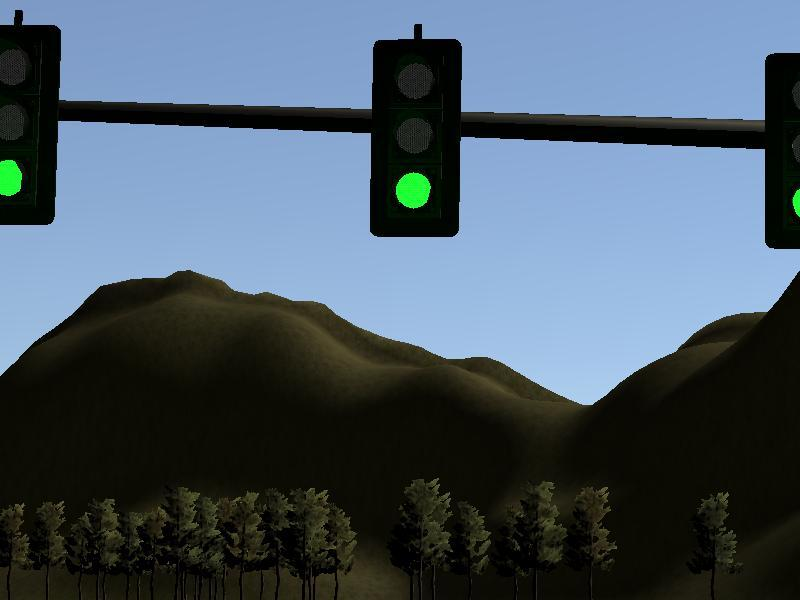Green: (373, 41, 460, 235), (1, 27, 53, 222), (765, 56, 800, 250)
